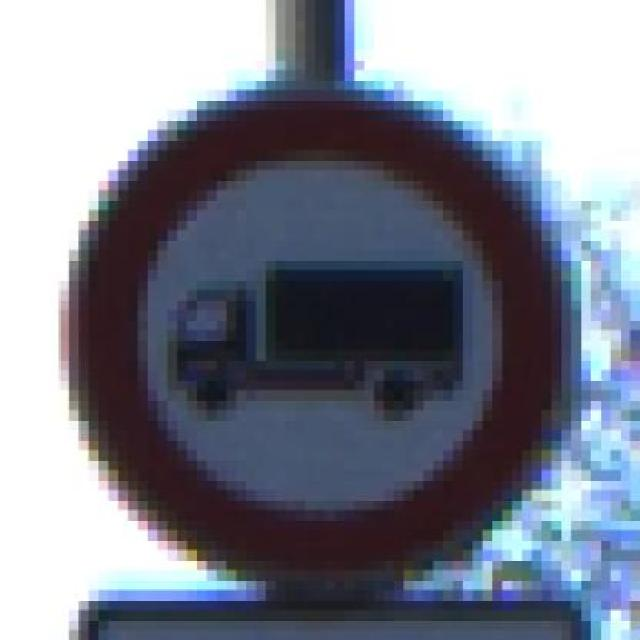Truck traffic is prohibited: (29, 70, 591, 601)
